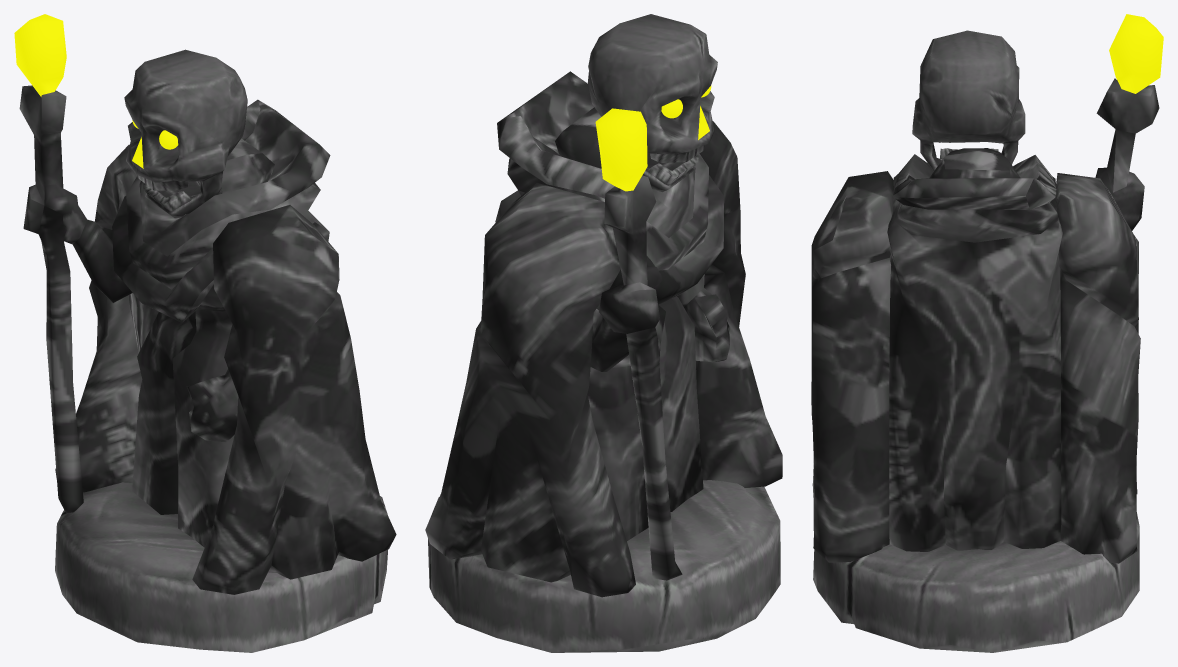
Rendered from Ahhotep(1).fbx.
3 views of the same model, side by side, from view 1: azimuth 30°, elevation 25°; view 2: azimuth 150°, elevation 25°; view 3: azimuth 270°, elevation 25° (orthographic). The views are drawn at different scales.
Parts seen in each view (by area): view 1: Enchantress-Arms, Enchantress-Body, Base, Head; view 2: Enchantress-Arms, Base, Enchantress-Body, Head; view 3: Enchantress-Body, Enchantress-Arms, Base, Head.
Part boxes in pixels (bbox=[...]): Enchantress-Arms: bbox=[14, 14, 396, 594]; Enchantress-Body: bbox=[112, 99, 330, 547]; Base: bbox=[55, 482, 388, 652]; Head: bbox=[124, 49, 247, 218]; Enchantress-Arms: bbox=[425, 108, 782, 597]; Base: bbox=[428, 480, 780, 652]; Enchantress-Body: bbox=[495, 71, 724, 540]; Head: bbox=[587, 14, 717, 192]; Enchantress-Body: bbox=[887, 148, 1062, 551]; Enchantress-Arms: bbox=[811, 14, 1163, 563]; Base: bbox=[813, 512, 1139, 652]; Head: bbox=[912, 30, 1025, 171].
Bounding box in the file's own units: 0.4837 × 0.8487 × 0.5226.
4 materials, 3 textured.
